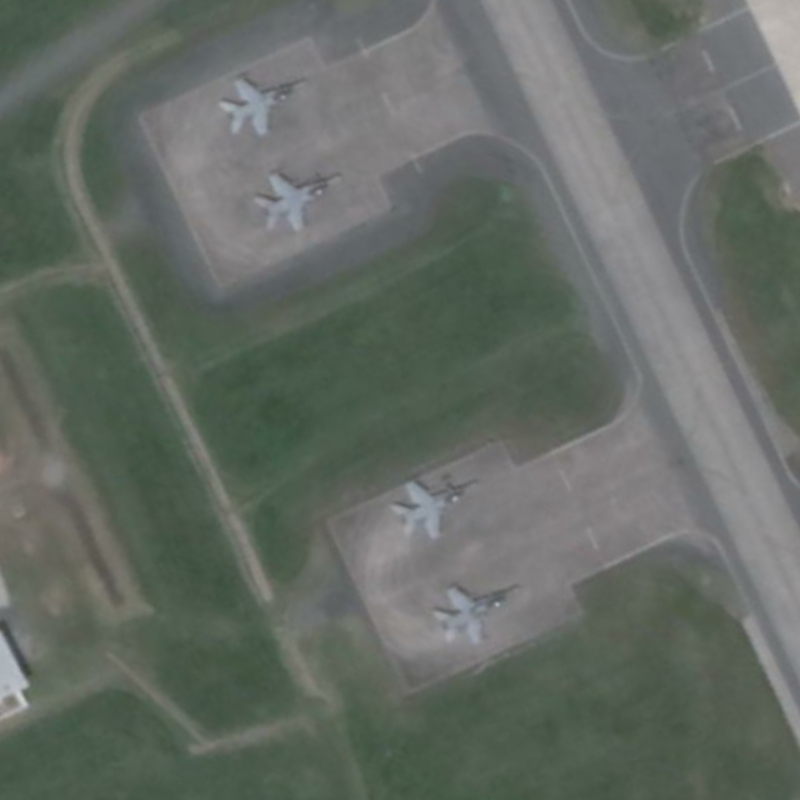A16: (384, 470, 489, 545), (245, 161, 347, 237), (213, 64, 310, 140), (425, 578, 523, 650)
